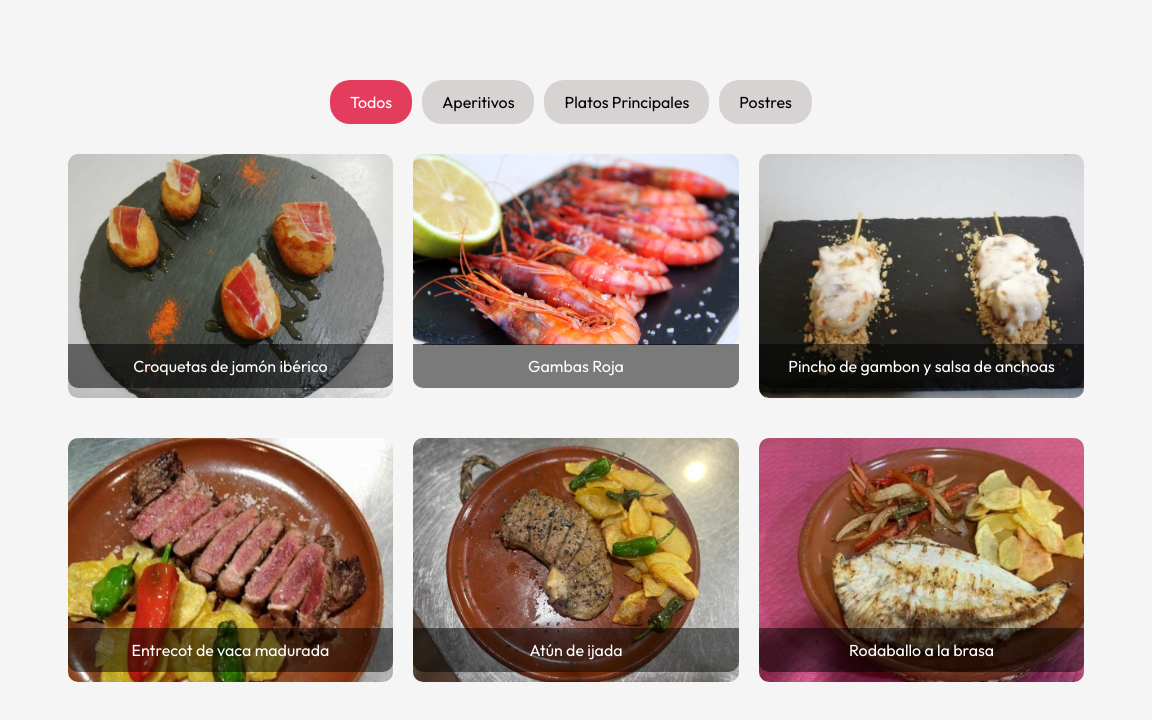
Scenario: Gastronomy › filters to only Platos Principales
Click the button "Platos Principales": (627, 102) [544, 80, 709, 124]
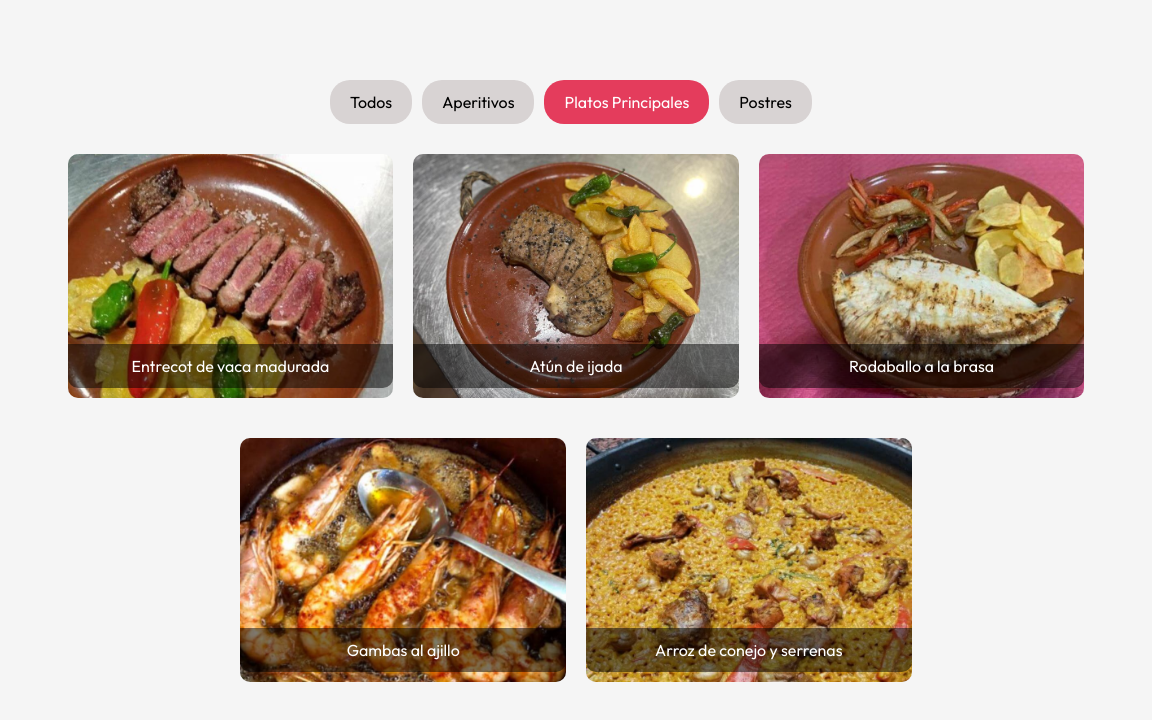
Expected: the picture with alt text "Entrecot de vaca madurada" is shown, [68, 154, 393, 398]
Expected: the text with alt text "Croquetas de jamón ibérico" is gone
